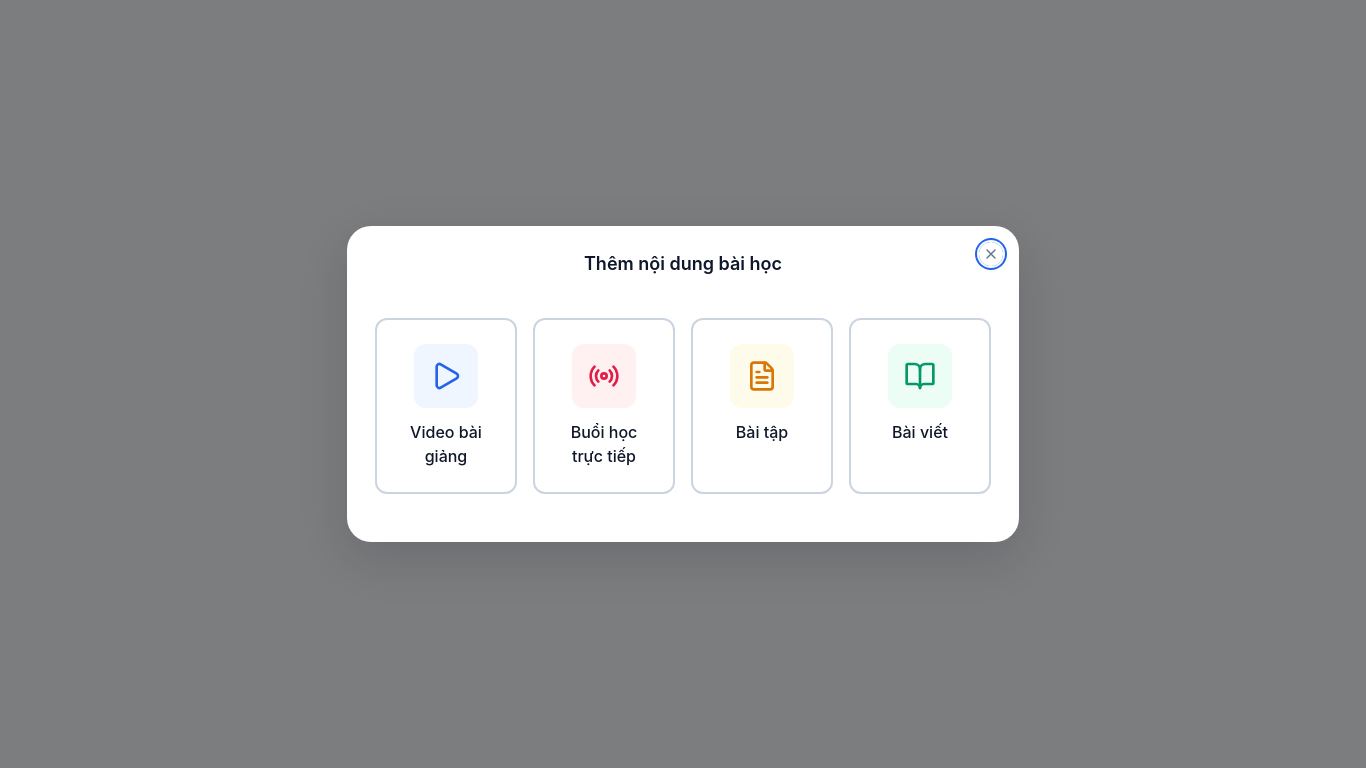
Test: AddContentModal — tiêu đề bắt buộc (T4) › parent trả { error }: hiện đúng lý do backend trong modal, giữ dữ liệu, cho gửi lại
Click the button "Video bài giảng".
click(446, 406)  # box [375,318,517,494]
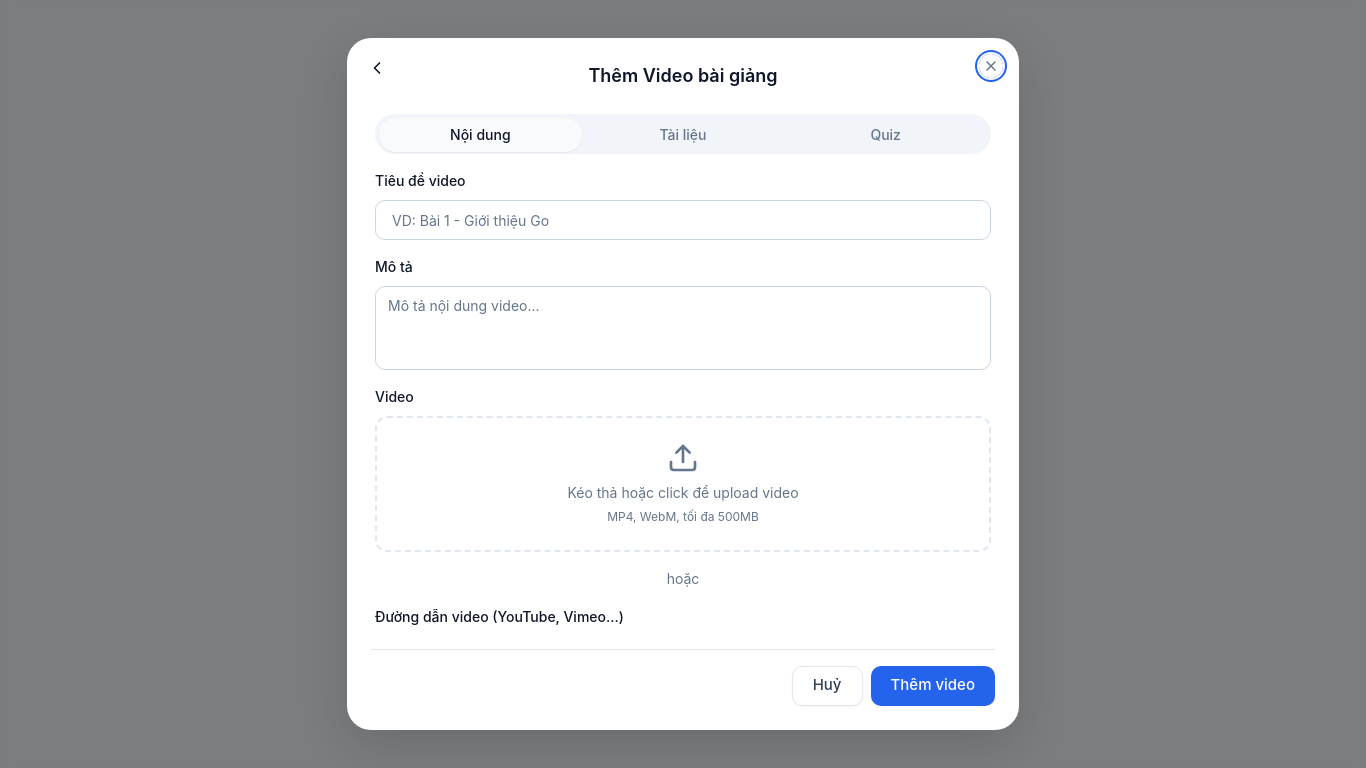
Type "Bài 1" into the field labelled "Tiêu đề video".
click(683, 220); type("Bài 1")  # box [375,200,991,240]
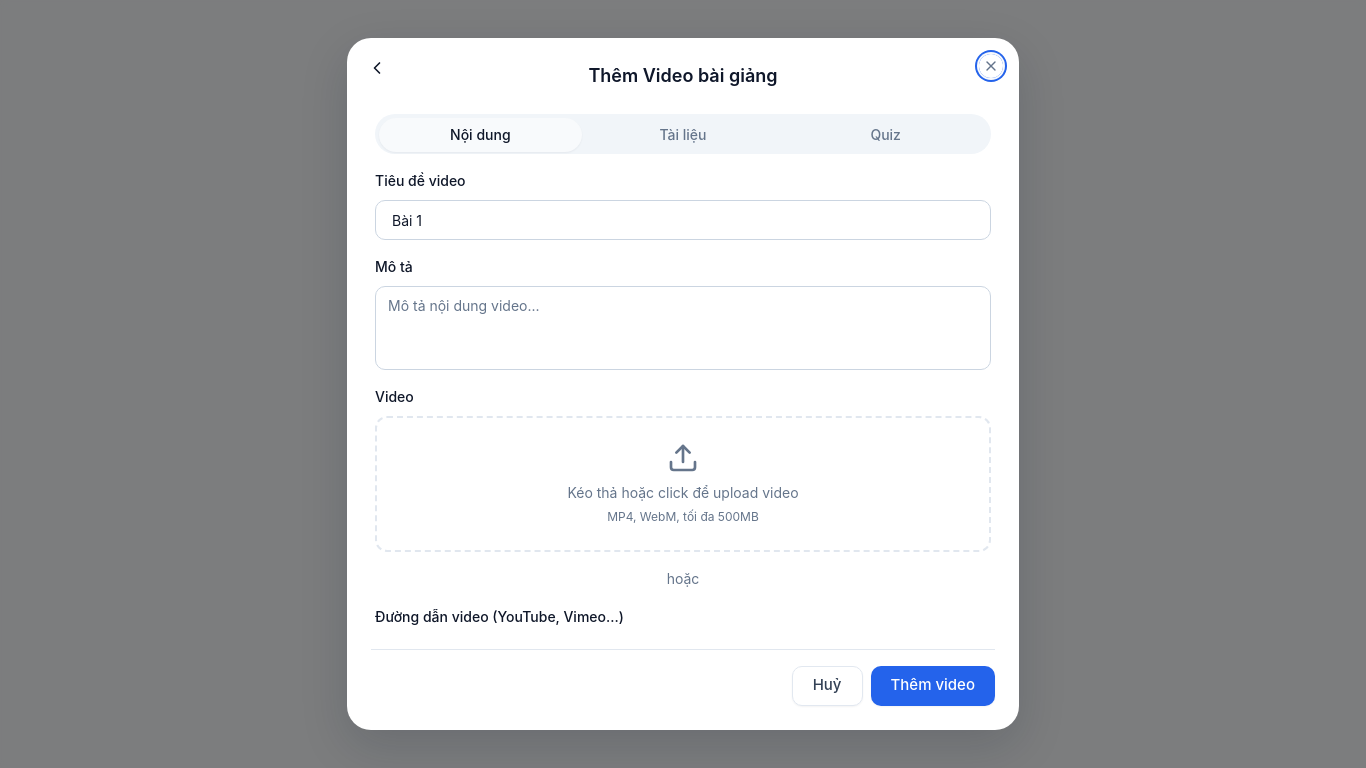
Click the button "Thêm video".
click(933, 686)  # box [870,666,995,706]
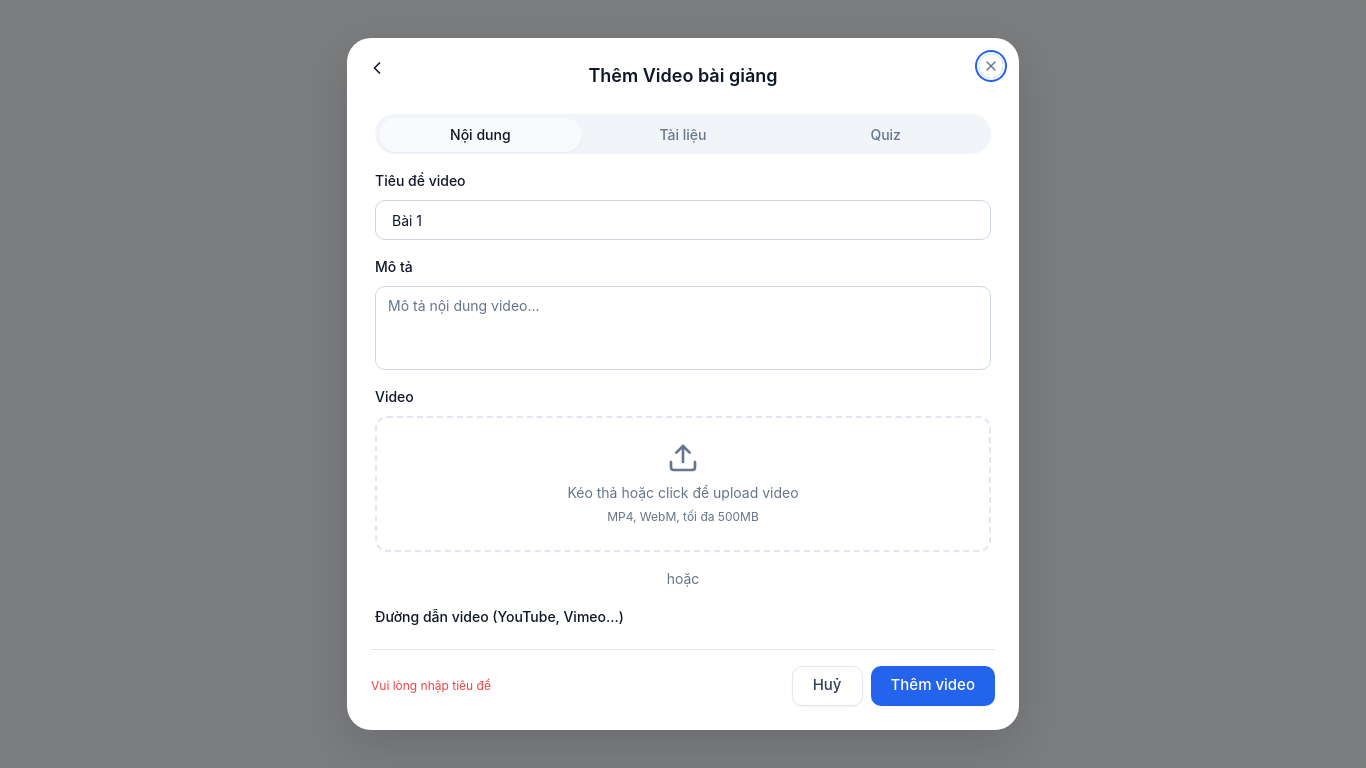
Now the message with test id "add-content-submit-error" reads "Vui lòng nhập tiêu đề", box [371,678,491,693]
Click the button "Thêm video".
click(933, 686)  # box [870,666,995,706]
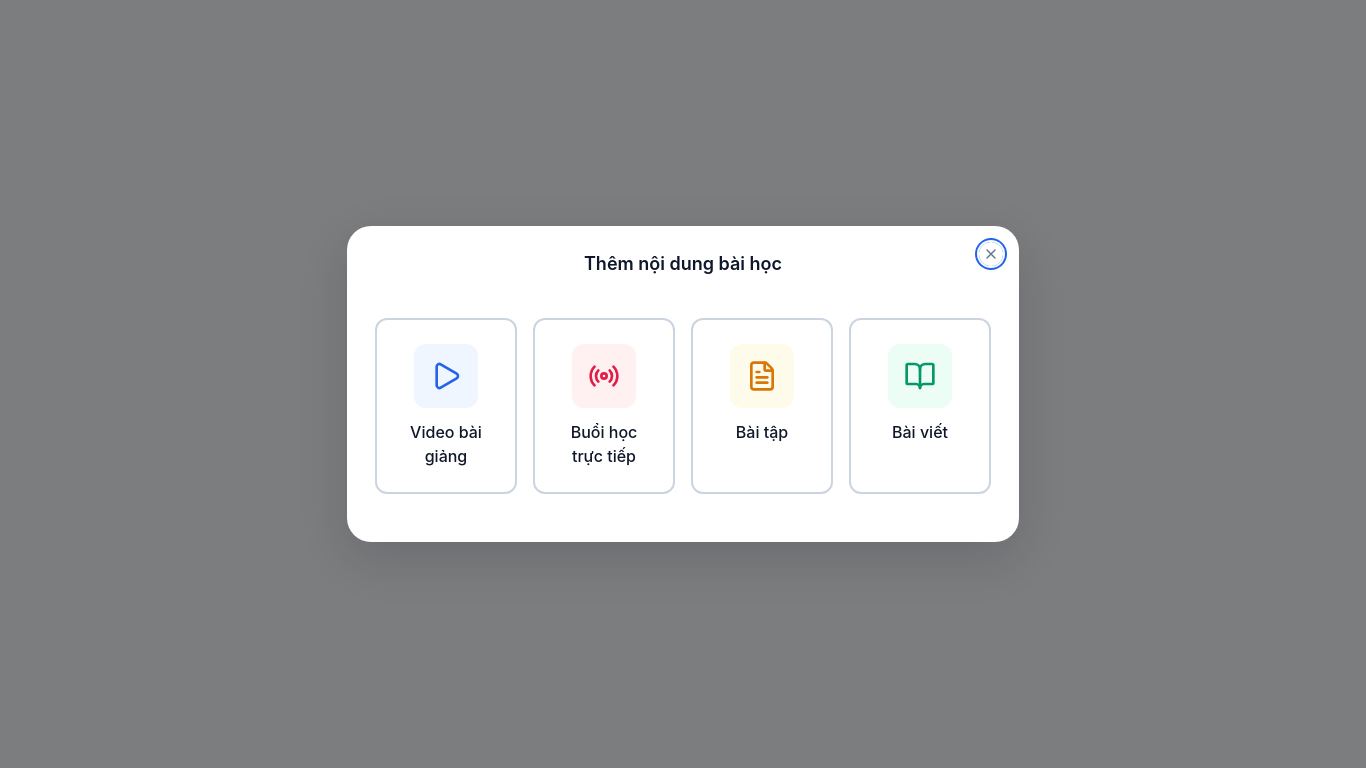
Now the message with test id "add-content-submit-error" is gone
